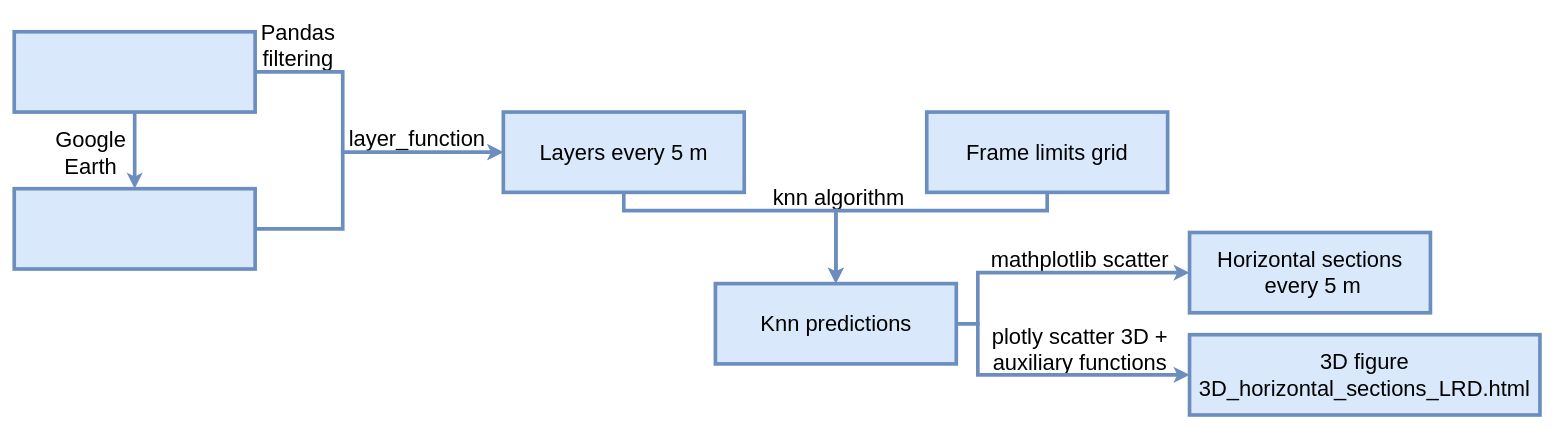
Image size: 1554x429. Some labels were removed from this diagram. The shapes that lost their labels are listed below. From the top down, each one's centre as x and y in pixels, then its label:
the point at 134,72: Data boreholes hsd new basements.xls
the point at 134,228: Delta contour
